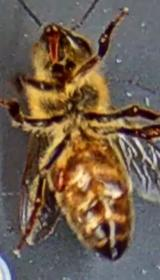varroa_mite: (39, 161, 85, 198)
